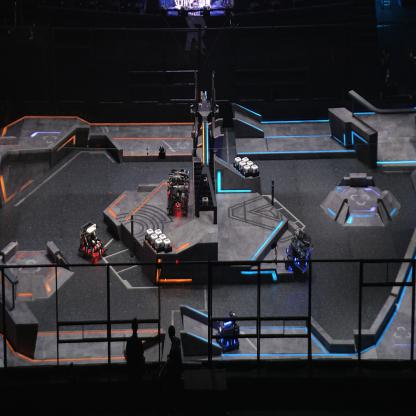car: (284, 227, 313, 278), (77, 221, 108, 263), (167, 167, 191, 216), (215, 312, 241, 352)
